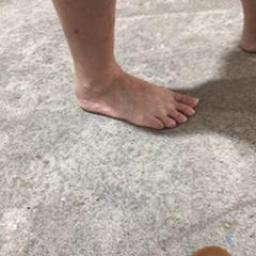Lateral View -Right Foot-: (64, 42, 204, 140)
